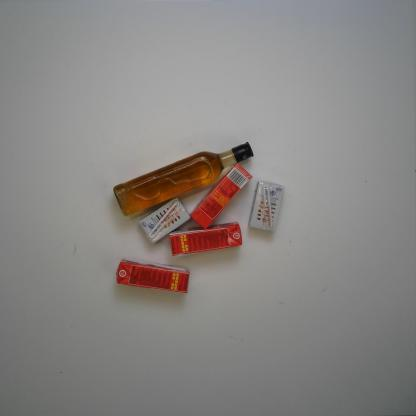Milk: (190, 163, 253, 230), (113, 257, 191, 296), (168, 220, 243, 258), (137, 196, 191, 244), (247, 180, 285, 233)
Seasoner: (112, 138, 254, 218)
